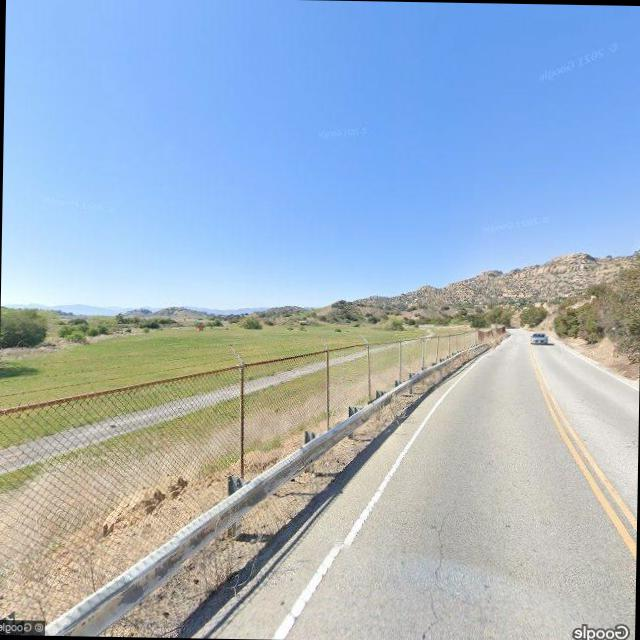pothole: (417, 501, 456, 640)
